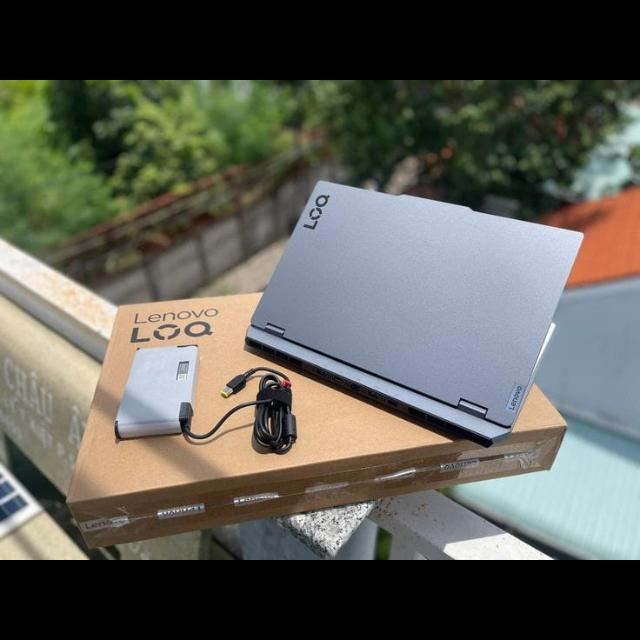laptop: (252, 161, 584, 435)
